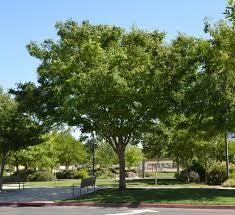tree: (18, 23, 205, 190)
